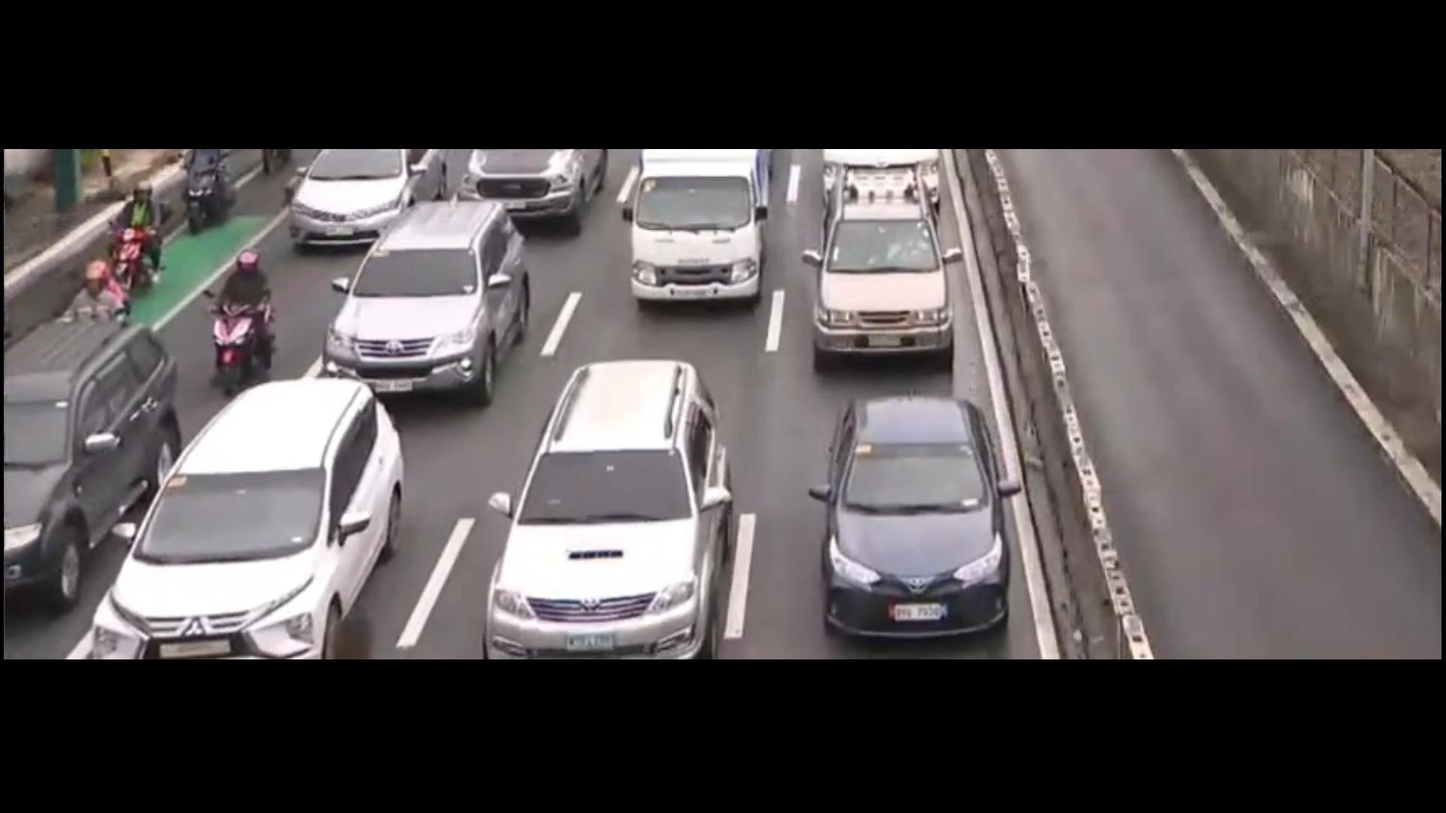Motorcycle: (194, 253, 288, 406), (111, 181, 168, 289), (179, 152, 236, 222)
SUV: (68, 382, 424, 651), (477, 354, 750, 654), (0, 309, 197, 606), (312, 194, 533, 406), (803, 172, 987, 381)
Sedan: (824, 375, 1038, 641), (283, 152, 458, 239)
Truck: (592, 142, 814, 313)
